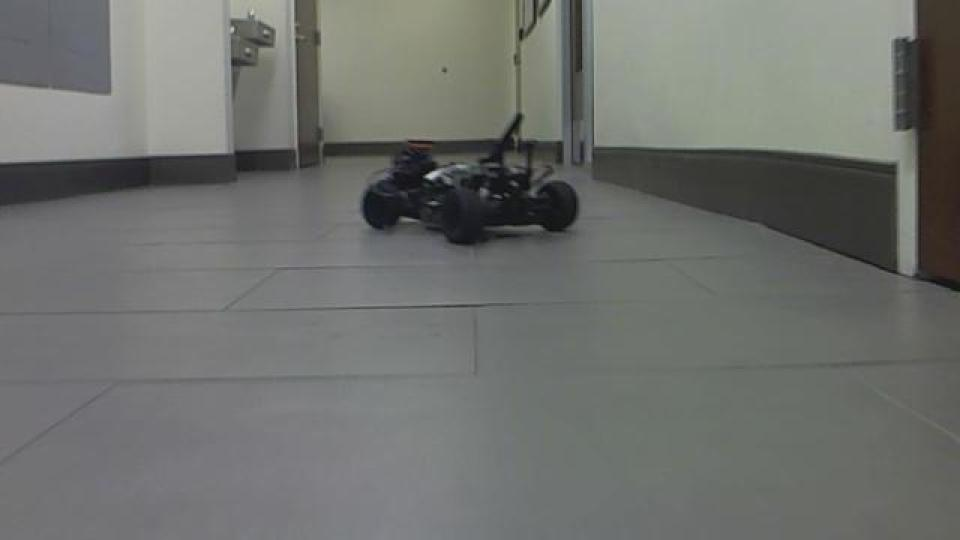car: (357, 111, 581, 247)
